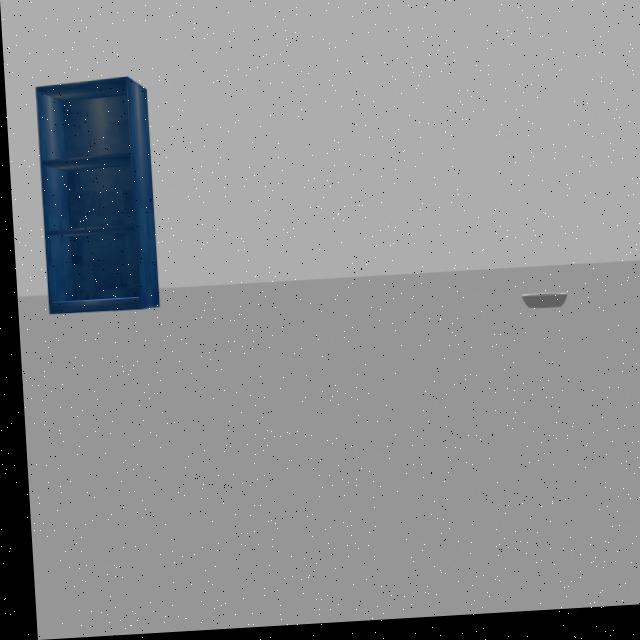bowl: (512, 293, 569, 329)
shelf: (9, 59, 173, 331)
